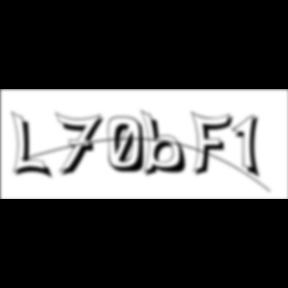0: (108, 115, 152, 174)
1: (232, 114, 266, 182)
7: (55, 111, 110, 179)
F: (191, 110, 239, 178)
L: (11, 110, 55, 182)
b: (140, 109, 194, 179)
